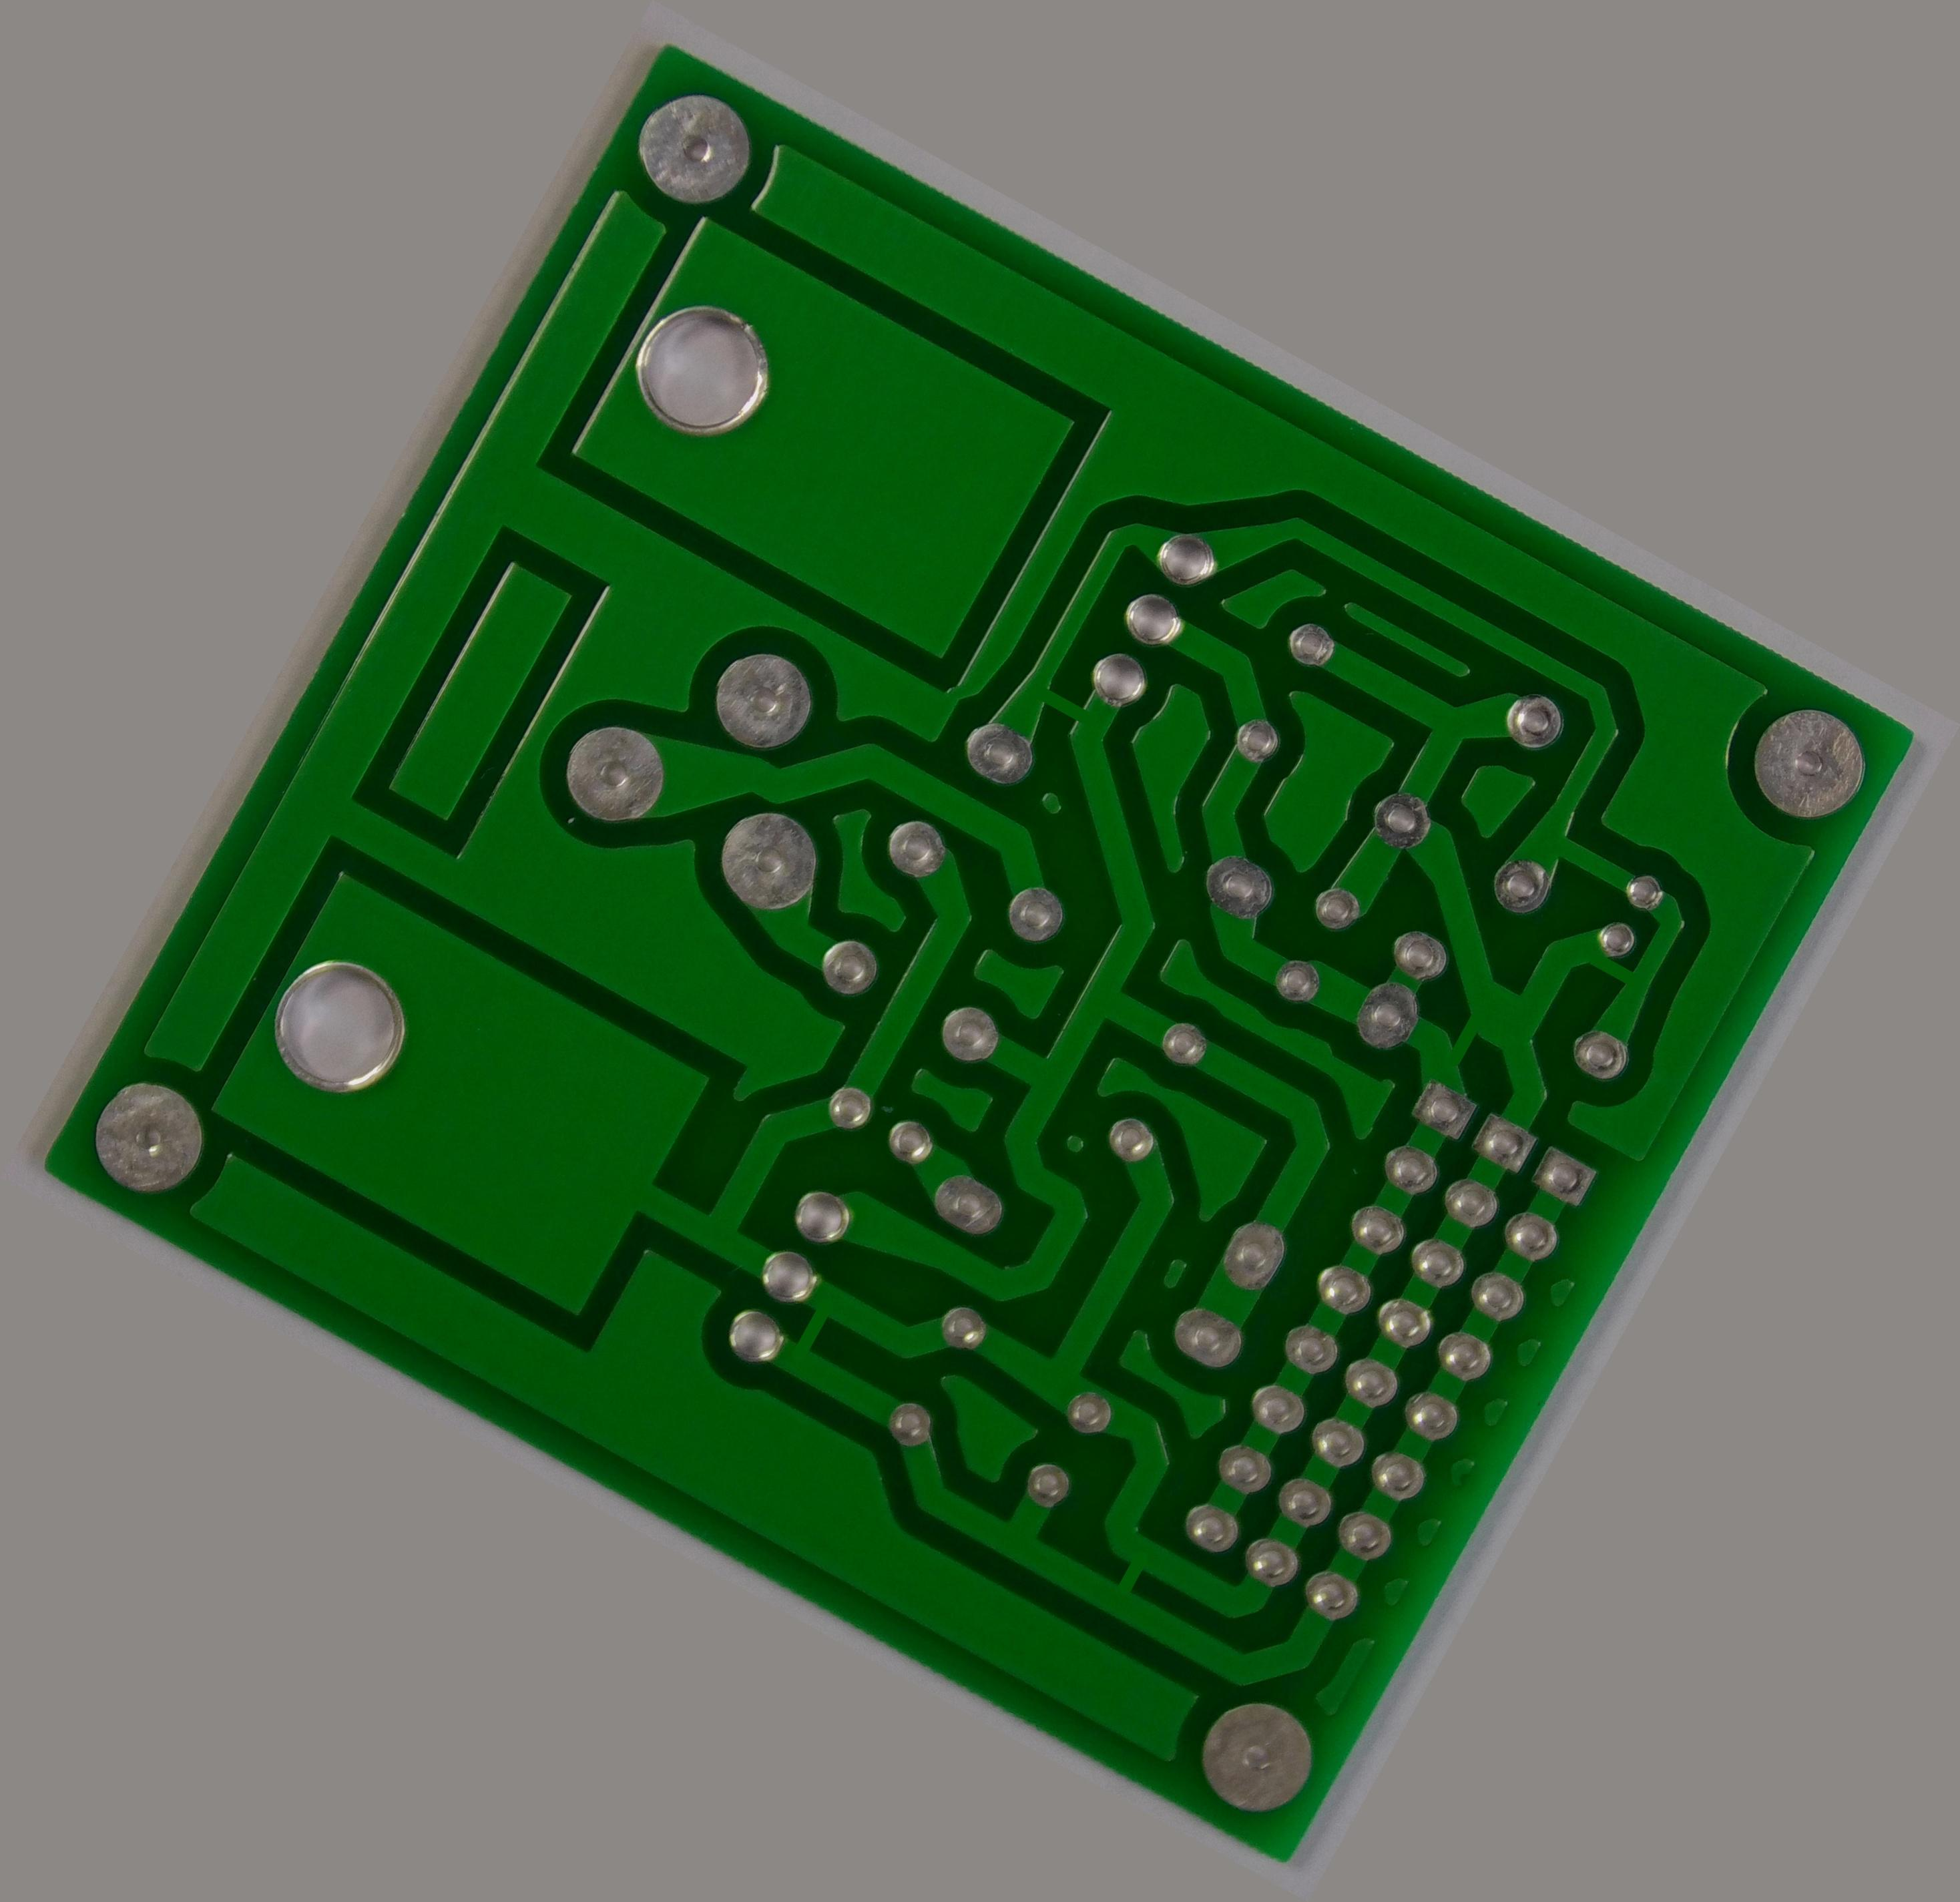short: (996, 649, 1132, 770), (745, 1262, 868, 1395), (1069, 1505, 1192, 1634), (1421, 973, 1522, 1090), (1554, 912, 1664, 1011)
